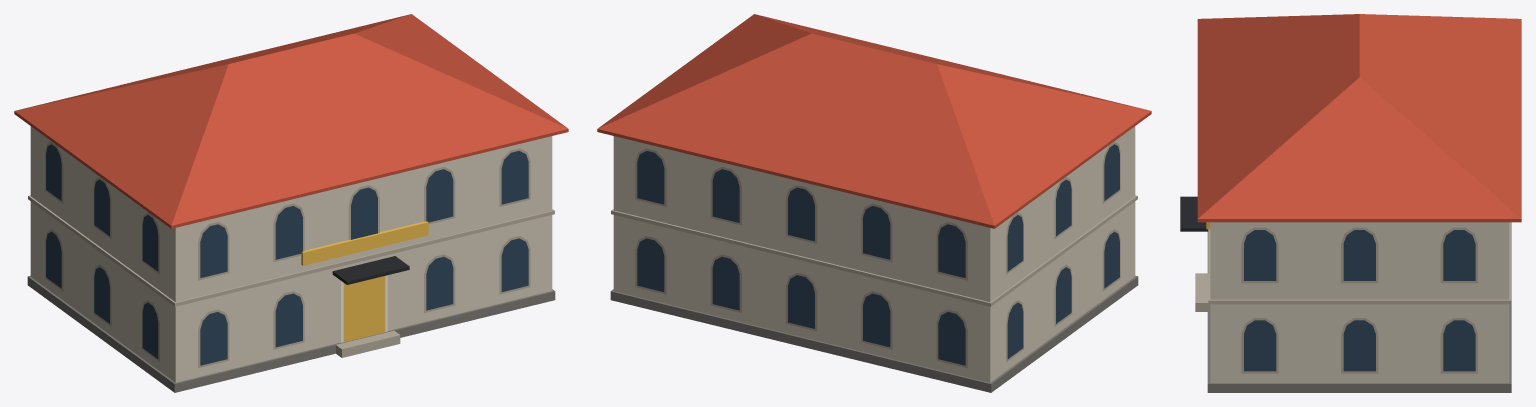
File: poste.glb
3 renders of one model, left to right at view 1: azimuth 30°, elevation 25°; view 2: azimuth 150°, elevation 25°; view 3: azimuth 270°, elevation 25°, orthographic. The views are drawn at different scales.
Parts seen in each view (by area): view 1: poste; view 2: poste; view 3: poste.
Part boxes in pixels (<box>): poste: <box>14,14,568,392</box>; poste: <box>597,14,1151,392</box>; poste: <box>1180,14,1521,392</box>.
Size of the model in its own units: 19 by 11.14 by 13.7.
1 material, 1 textured.
